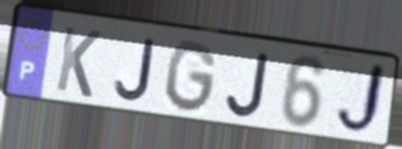6: (276, 51, 329, 132)
G: (163, 38, 220, 116)
J: (332, 60, 390, 140), (224, 50, 272, 120), (112, 37, 157, 104)
K: (53, 23, 103, 101)
